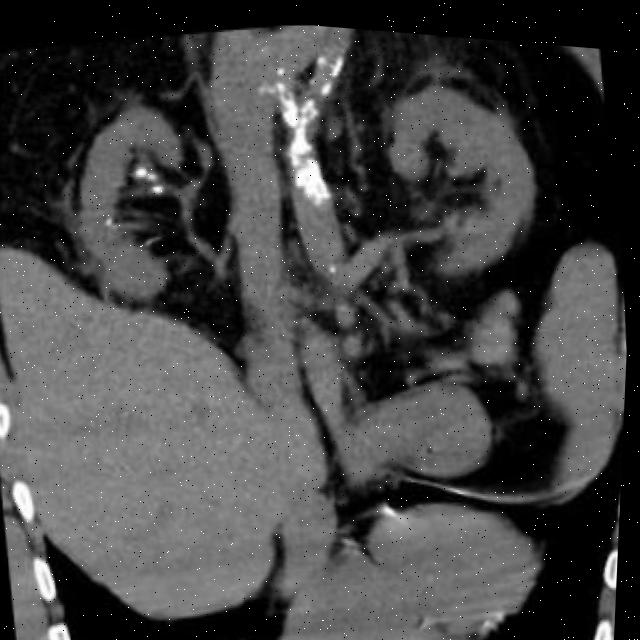Tas_Var: (99, 210, 121, 230), (144, 165, 168, 182), (130, 161, 149, 179), (148, 177, 168, 194)
